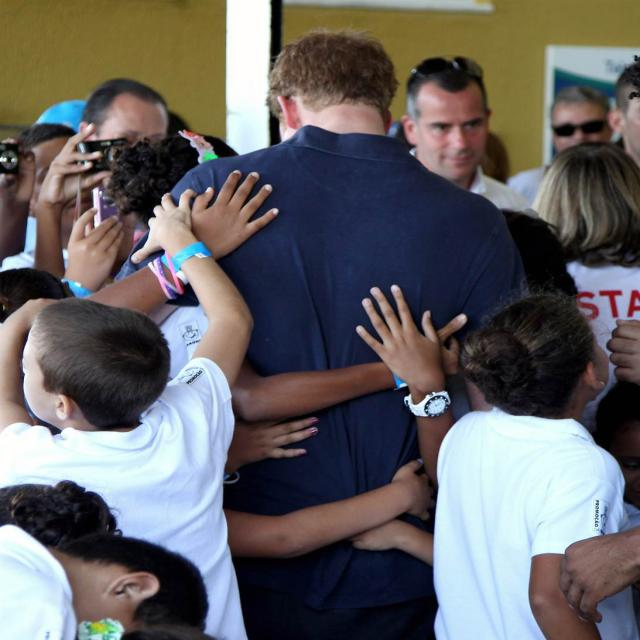body: (95, 21, 551, 640), (0, 186, 261, 640), (424, 288, 639, 639), (0, 477, 229, 640), (523, 140, 640, 433), (0, 177, 107, 435), (398, 54, 536, 220), (0, 98, 245, 177), (0, 120, 128, 261), (59, 74, 176, 210), (505, 84, 614, 208), (591, 370, 639, 640), (608, 60, 640, 169)
